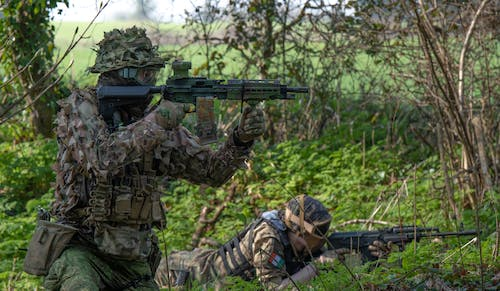gun: (95, 59, 310, 148), (326, 223, 483, 271)
